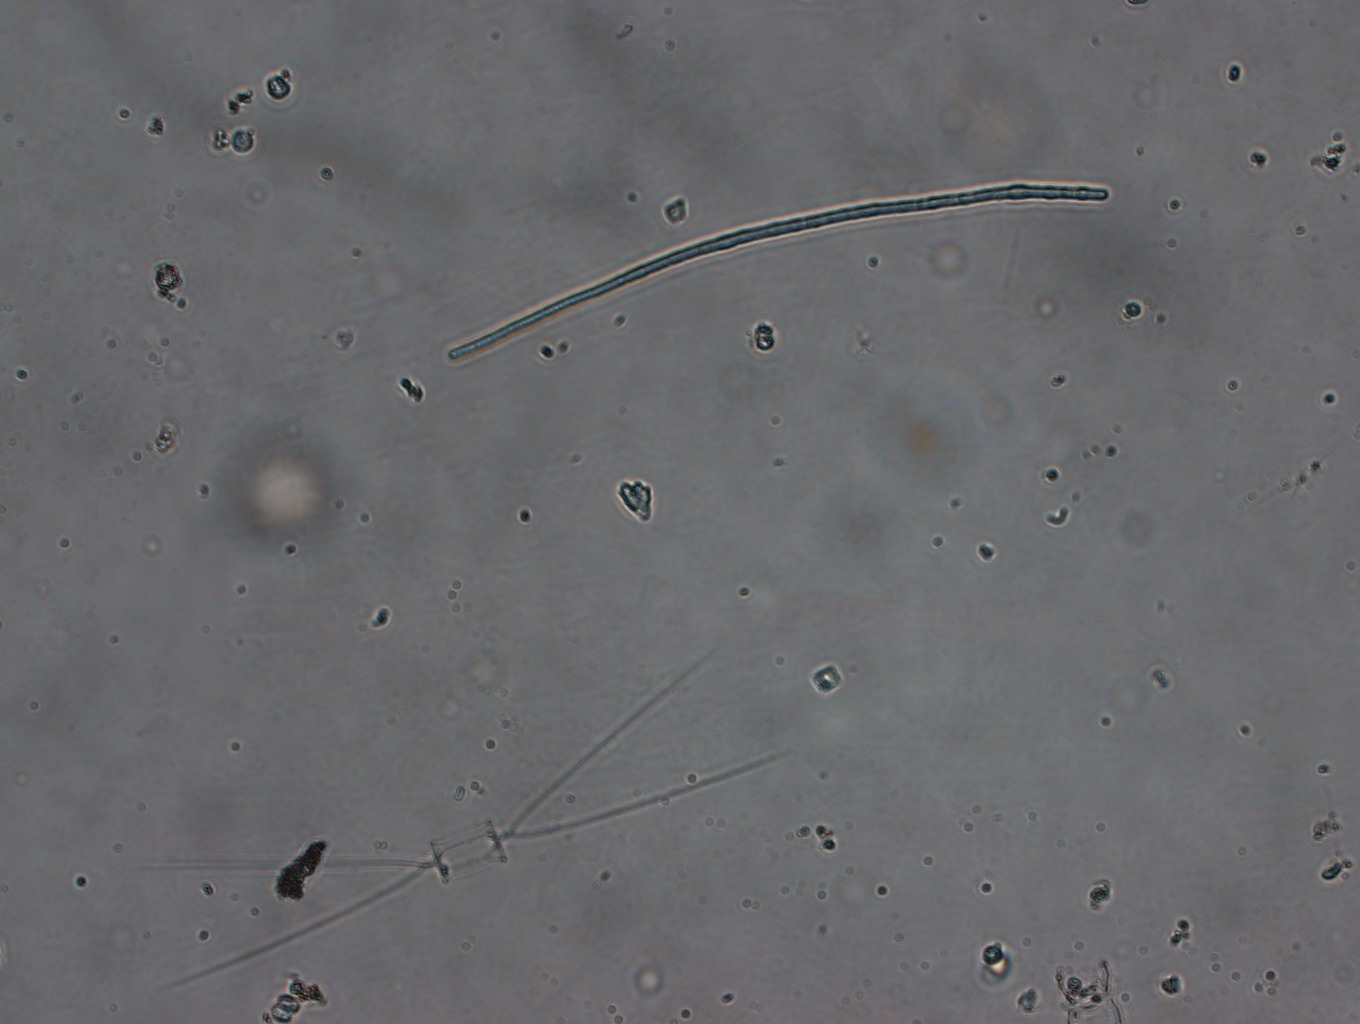chaetoceros: (156, 649, 781, 991)
